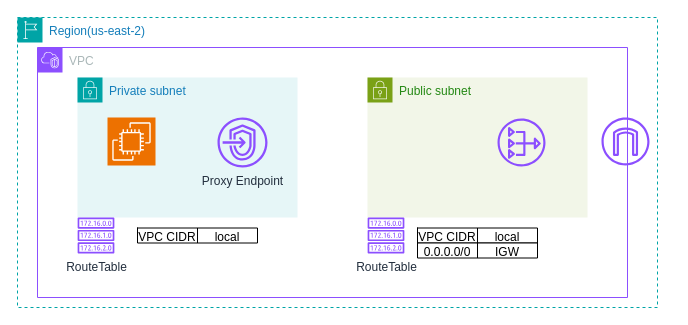
The diagram is 688 pixels wide and 325 high, and some of its shapes have lost their labels. Here are the shapes that lost their labels. From the top down, the centre of each, then its label:
At [131,141]: "クライアント".
At [521,142]: "NAT Gateway".
At [625,141]: "Internet Gateway".
